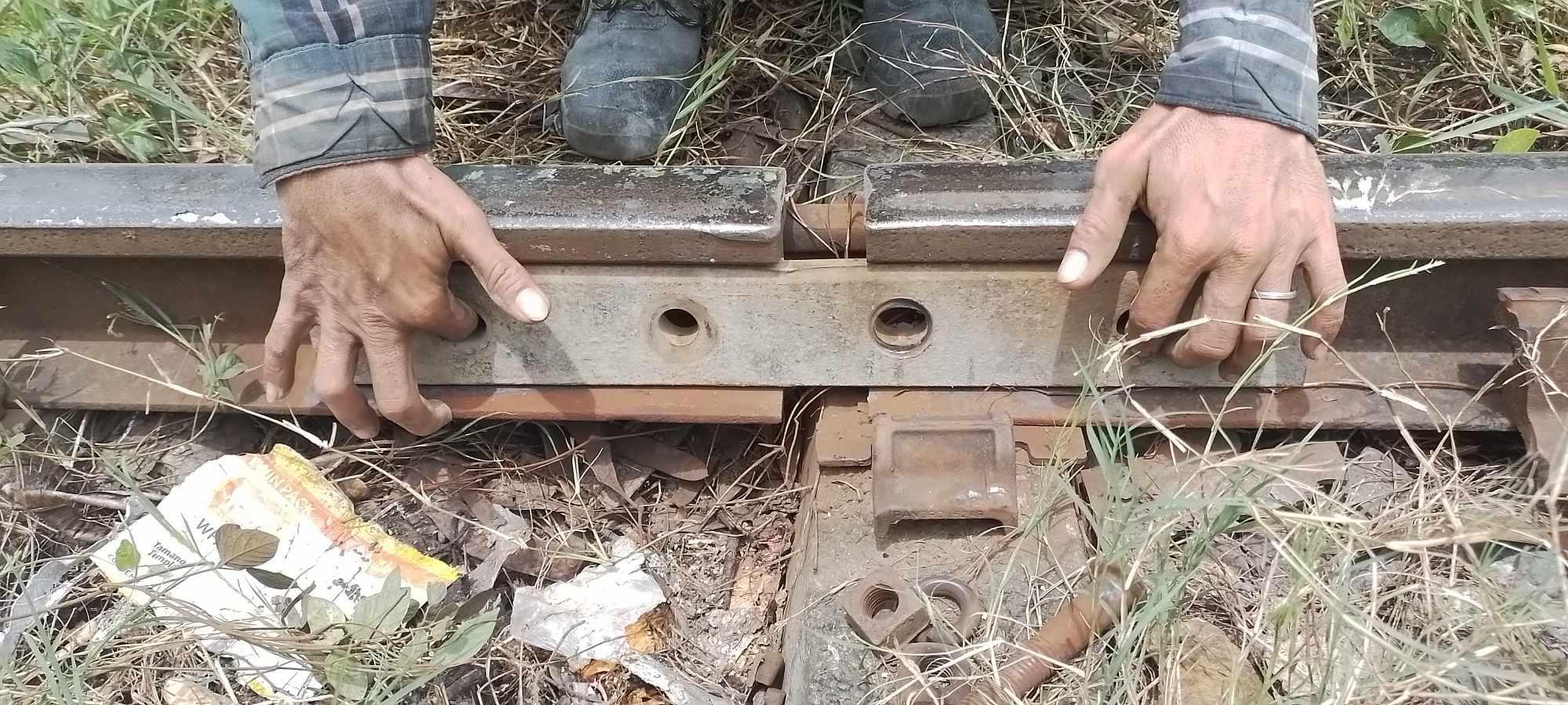railway-gap: (740, 148, 915, 291)
